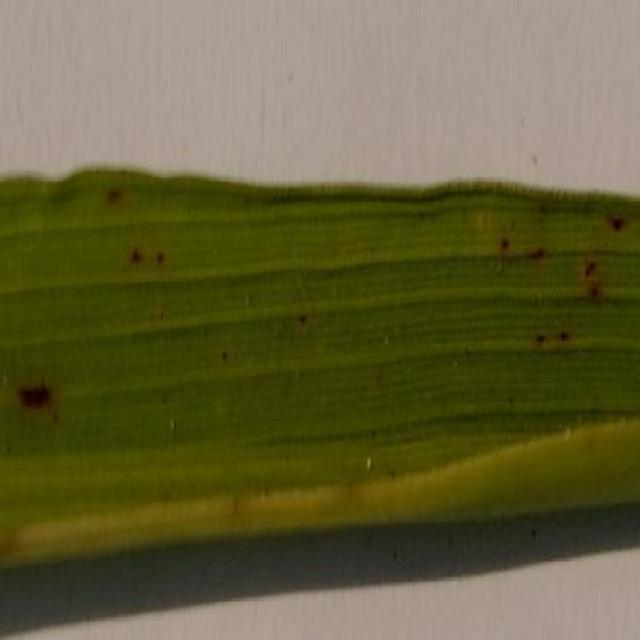Leaf_Blast: (478, 107, 636, 371), (122, 219, 178, 324), (7, 347, 64, 438), (98, 174, 125, 226), (606, 205, 632, 248)
